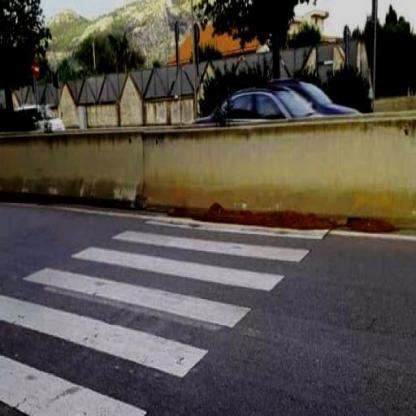crosswalk: (20, 243, 288, 334)
